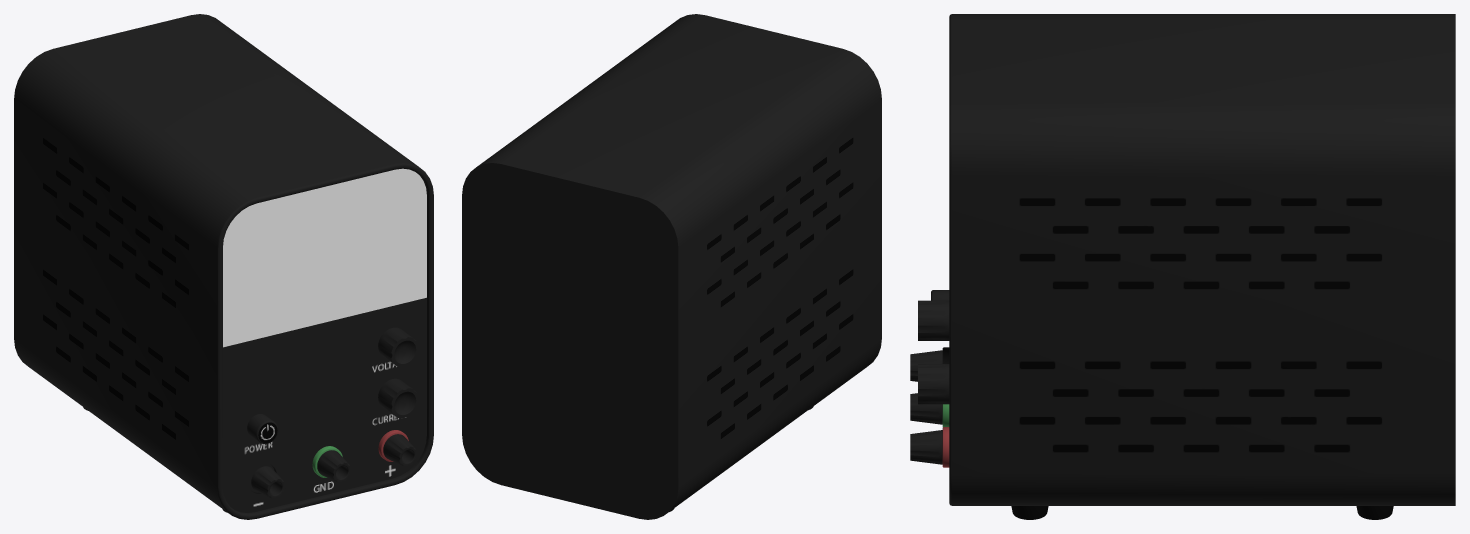
Rendered from dc_power_supply.glb.
The picture shows the model from 3 angles, left to right: view 1: azimuth 30°, elevation 25°; view 2: azimuth 150°, elevation 25°; view 3: azimuth 270°, elevation 25°; orthographic projection. The views are drawn at different scales.
Parts seen in each view (by area): view 1: body, Circle.007, Circle.006, Circle.004, Circle.003, Circle.005, Cylinder; view 2: body; view 3: body, Circle.006, Circle.007, Circle.004, base_rubber, Circle.003.
Boxes of the visible parts, box(x1,y1,x2,y2) form: body: box(14, 14, 433, 519); Circle.007: box(378, 327, 418, 367); Circle.006: box(378, 378, 418, 418); Circle.004: box(383, 434, 417, 466); Circle.003: box(317, 450, 351, 482); Circle.005: box(251, 466, 285, 498); Cylinder: box(247, 414, 278, 444); body: box(462, 14, 881, 519); body: box(949, 14, 1455, 505); Circle.006: box(918, 364, 949, 404); Circle.007: box(918, 300, 949, 340); Circle.004: box(910, 430, 942, 464); base_rubber: box(1011, 506, 1393, 519); Circle.003: box(910, 393, 942, 424).
Bounding box in the file's own units: 0.11 × 0.1635 × 0.1939.
8 materials, 2 textured.
